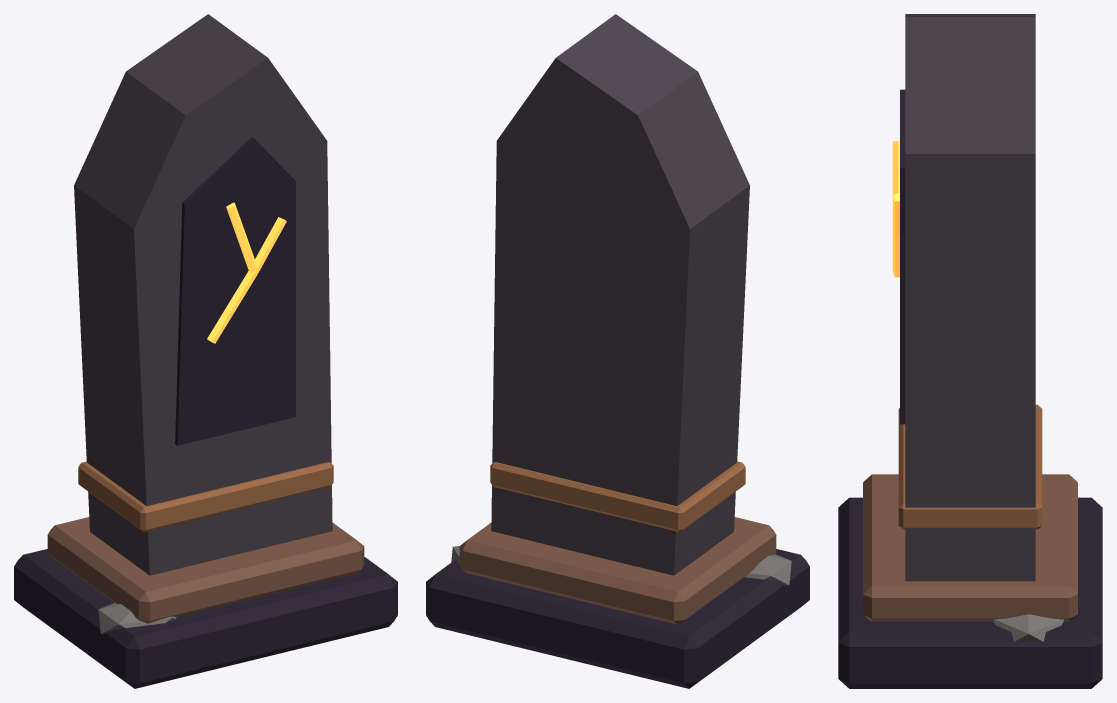
Rendered from rift_scorched_waystone.glb.
The picture shows the model from 3 angles, left to right: view 1: azimuth 30°, elevation 25°; view 2: azimuth 150°, elevation 25°; view 3: azimuth 270°, elevation 25°; orthographic projection. The views are drawn at different scales.
Parts seen in each view (by area): view 1: rift_scorched_waystone; view 2: rift_scorched_waystone; view 3: rift_scorched_waystone.
Part boxes in pixels (x1,y1,x2,y2): rift_scorched_waystone: (14, 14, 397, 688); rift_scorched_waystone: (426, 14, 809, 688); rift_scorched_waystone: (838, 14, 1102, 688).
Bounding box in the file's own units: 0.7726 × 1.53 × 0.59.
